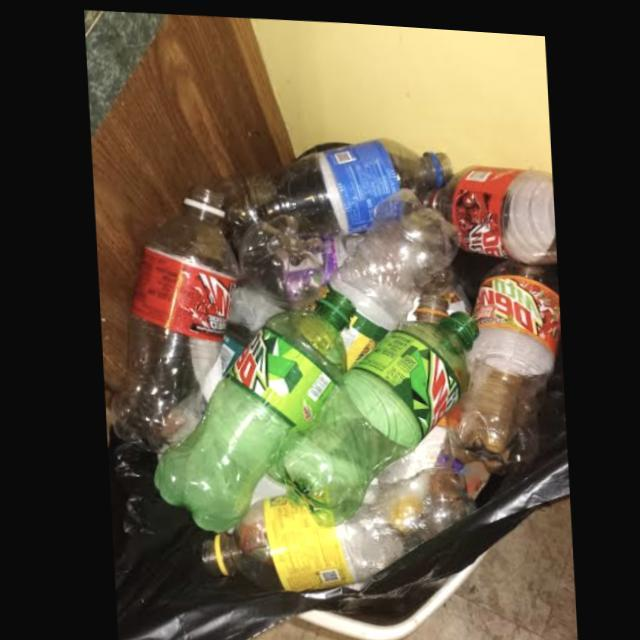plastic: (150, 283, 355, 531), (265, 304, 477, 523), (199, 461, 465, 588), (110, 181, 234, 449), (221, 133, 453, 235), (327, 183, 456, 364), (445, 254, 559, 456), (443, 158, 556, 261)
